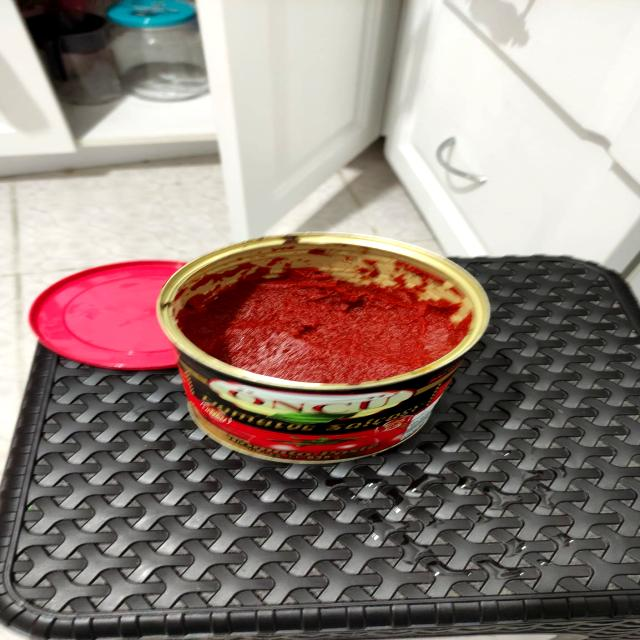tomato paste: (145, 214, 512, 477)
